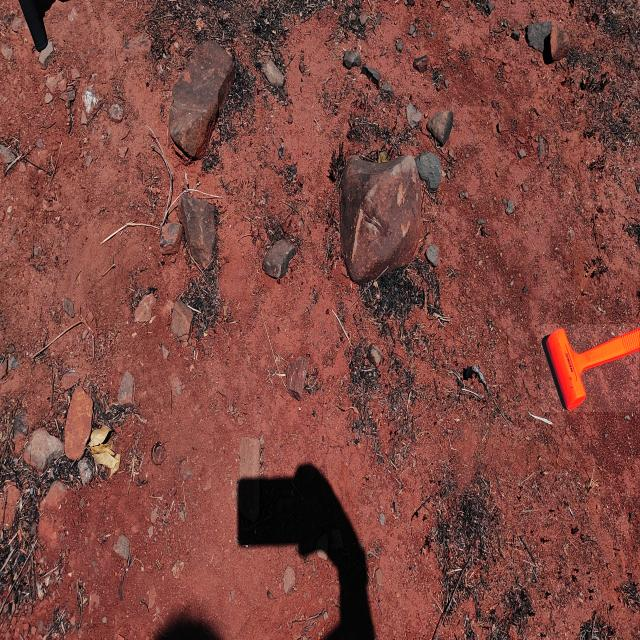Orange_hammer: (541, 324, 639, 412)
